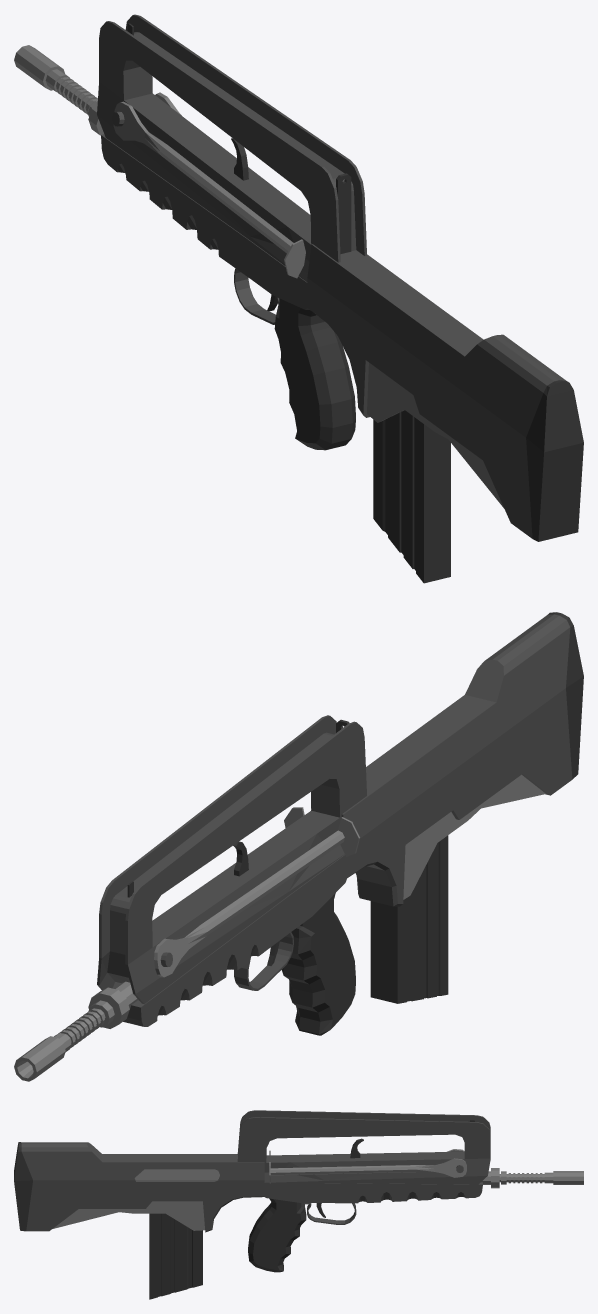
Rendered from Famas.fbx.
The picture shows the model from 3 angles, top to bottom: view 1: azimuth 30°, elevation 25°; view 2: azimuth 150°, elevation 25°; view 3: azimuth 270°, elevation 25°; orthographic projection. The views are drawn at different scales.
Parts seen in each view (by area): view 1: FAMAS, Magazin, Bipod_Left; view 2: FAMAS, Magazin, Bipod_Left; view 3: FAMAS, Magazin, Bipod_Right, Bolt.
Boxes of the visible parts, x1,y1,x2,y2 form: FAMAS: (14, 14, 583, 541); Magazin: (373, 410, 450, 583); Bipod_Left: (112, 101, 305, 278); FAMAS: (14, 612, 583, 1081); Magazin: (370, 835, 448, 1003); Bipod_Left: (154, 817, 359, 977); FAMAS: (14, 1110, 583, 1272); Magazin: (149, 1213, 202, 1299); Bipod_Right: (269, 1158, 466, 1183); Bolt: (134, 1138, 363, 1181).
Bounding box in the file's own units: 6.04 × 26.44 × 75.06.
1 material, 1 textured.
